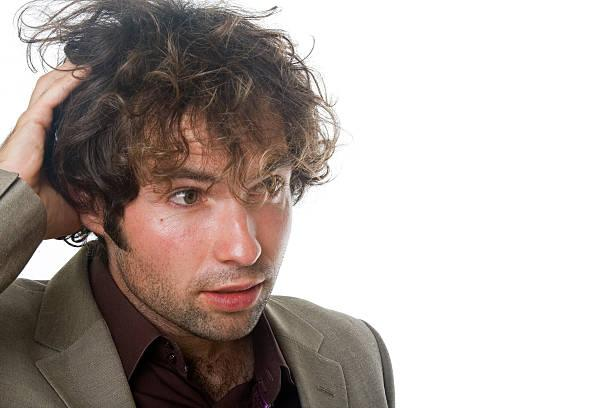dry hair: (149, 42, 233, 90), (88, 66, 132, 125), (108, 19, 208, 39), (244, 32, 284, 74), (163, 106, 184, 161)
